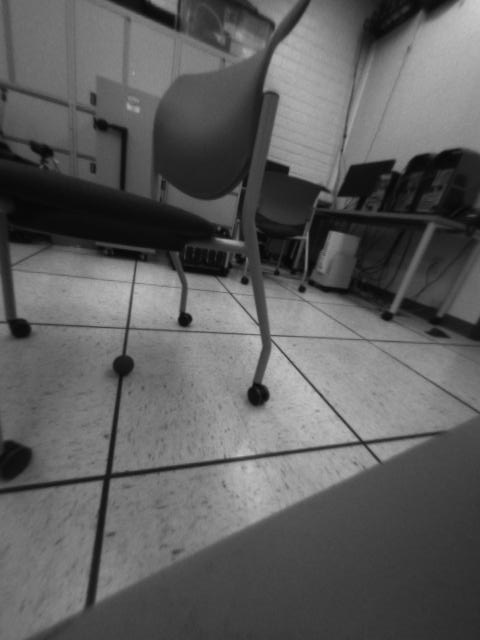dogtoy: (104, 348, 145, 385)
